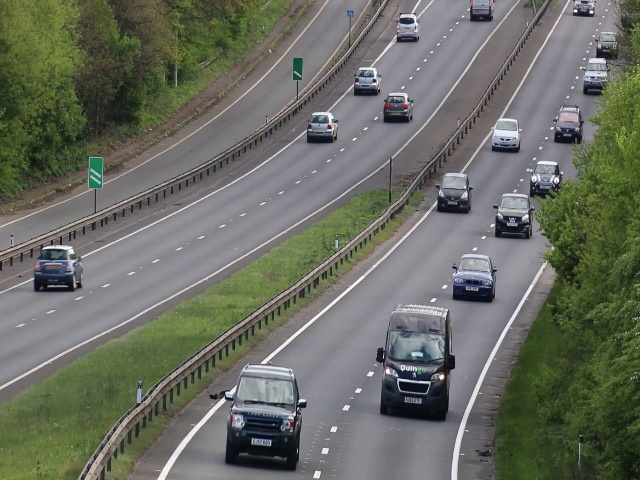car: (224, 372, 303, 468), (378, 321, 453, 421), (32, 244, 83, 289), (451, 255, 495, 299), (494, 195, 532, 235), (436, 171, 474, 211), (307, 110, 341, 141), (489, 113, 524, 143), (554, 103, 580, 143), (383, 92, 415, 124), (529, 159, 560, 190), (584, 54, 609, 91), (351, 64, 382, 91), (395, 11, 419, 40), (597, 27, 616, 54), (573, 1, 595, 19)
